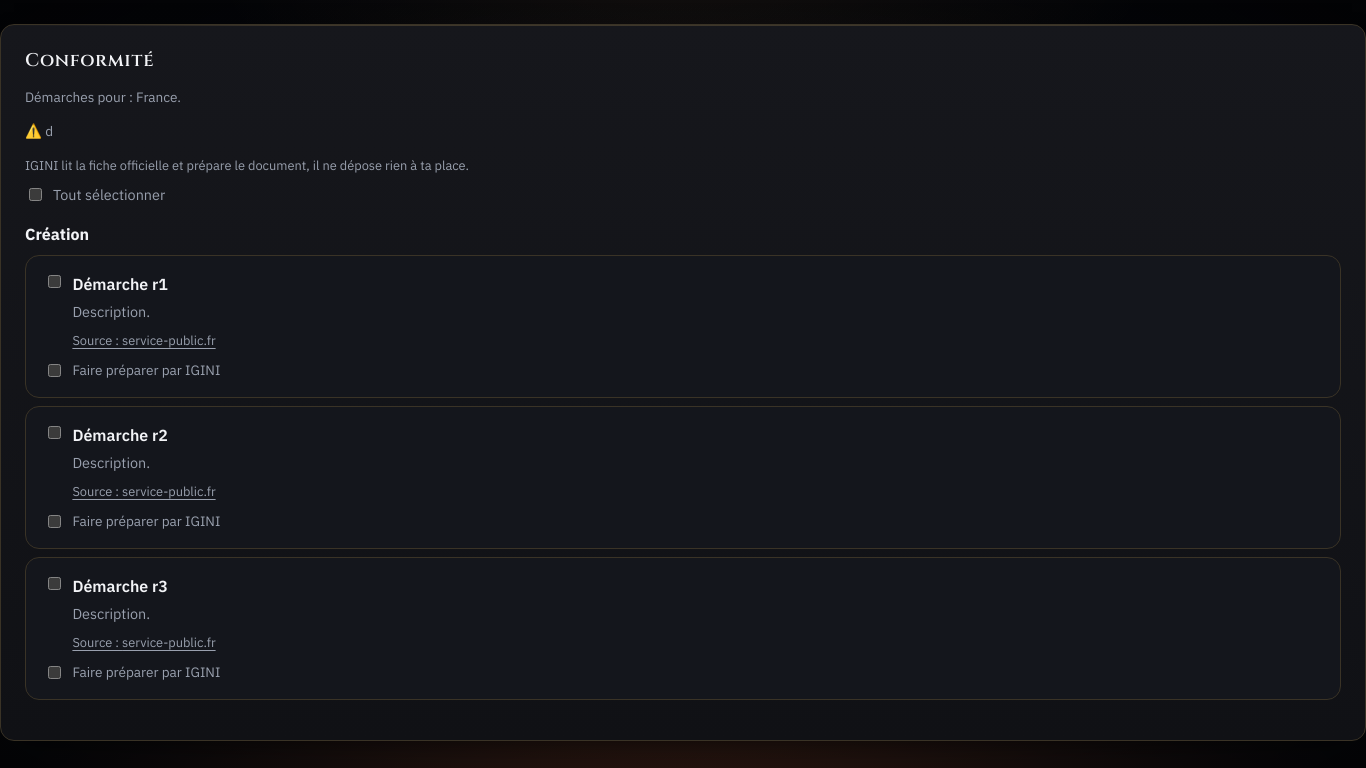
Test case: ComplianceSection — IGINI prépare les démarches › rappelle qu'IGINI ne dépose rien et lance les exigences cochées une par une
The image size is (1366, 768).
Expected: the text "Démarche r1" is shown, [72,274,168,294]
Expected: the text "IGINI lit la fiche officielle et prépare le document, il ne dépose rien à ta place." is shown, [25,157,469,174]
Click the checkbox named "Faire faire : Démarche r1".
click(55, 370)  # box [48,364,61,377]
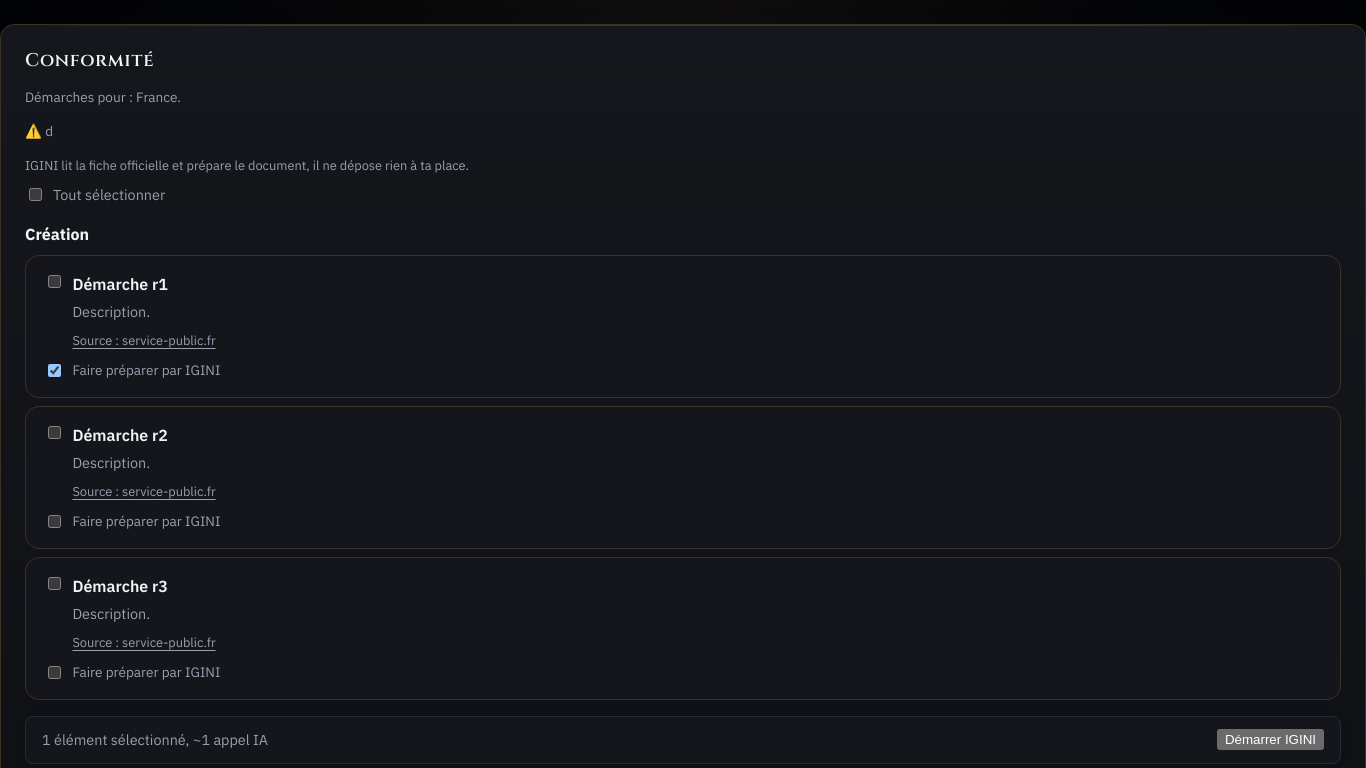
Click the checkbox named "Faire faire : Démarche r2".
click(55, 521)  # box [48,515,61,528]
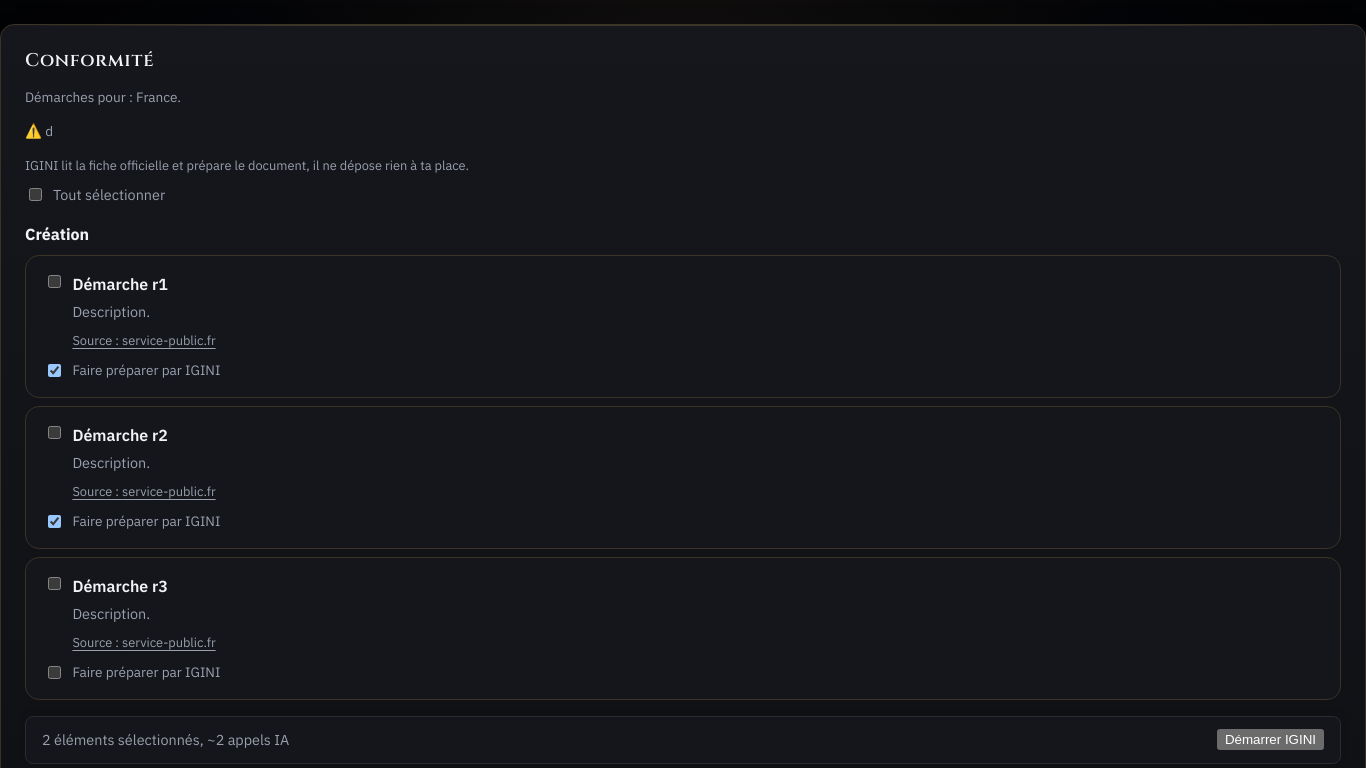
Result: the text "2 éléments sélectionnés, ~2 appels IA" is shown at [42,729,289,751]
Click the button "Démarrer IGINI".
click(1270, 740)  # box [1217,729,1324,750]
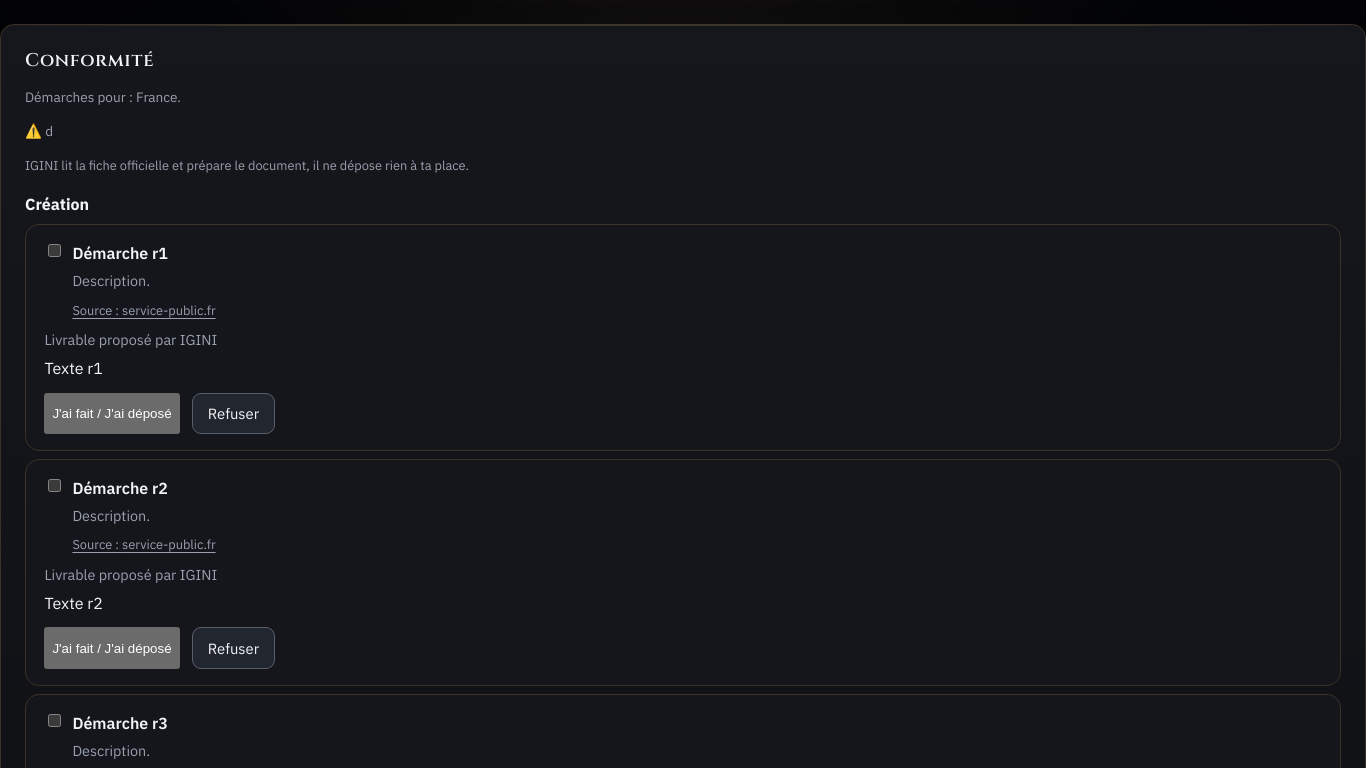
Expected: the checkbox labelled "Démarche r1" is not checked, [48,244,61,258]
Result: the text "Texte r2" is shown at [44,592,103,612]
Result: the text "Texte r1" is shown at [44,358,103,378]
